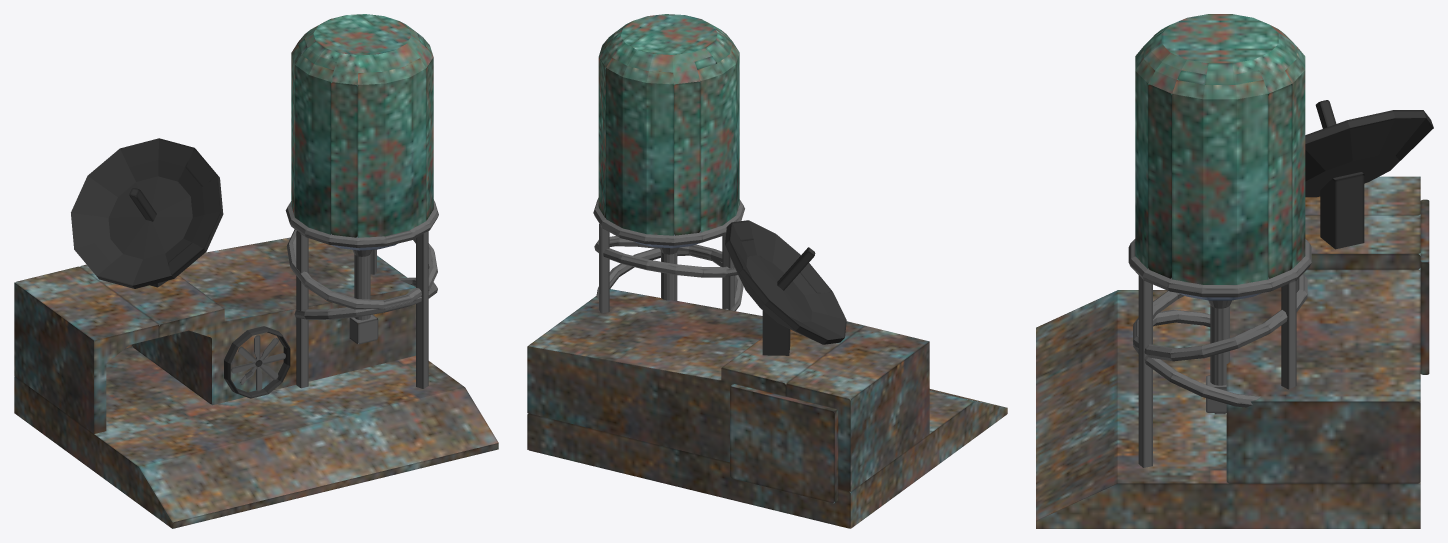
Rendered from BunkerDoor.fbx.
The picture shows the model from 3 angles, left to right: view 1: azimuth 30°, elevation 25°; view 2: azimuth 150°, elevation 25°; view 3: azimuth 270°, elevation 25°; orthographic projection. The views are drawn at different scales.
Parts seen in each view (by area): view 1: cuboid_5, cylinder, cuboid, cylinder_3, cuboid_1, torus_1, cuboid_2, torus, cuboid_4, torus_3, torus_2, cylinder_1 (+1 smaller); view 2: cuboid, cylinder, cuboid_5, cuboid_1, cuboid_15, cylinder_3, torus_1, torus, torus_2, cuboid_16, cuboid_3, cylinder_1 (+2 smaller); view 3: cuboid_5, cylinder, cuboid, cylinder_3, cuboid_16, torus_1, torus, cuboid_2, cuboid_1, torus_2, cuboid_15, cuboid_3 (+1 smaller).
Boxes of the visible parts, box(x1,y1,x2,y2) form: cuboid_5: box(14, 347, 498, 528); cylinder: box(291, 14, 433, 250); cuboid: box(80, 237, 415, 405); cylinder_3: box(71, 138, 223, 288); cuboid_1: box(14, 266, 159, 433); torus_1: box(286, 229, 437, 309); cuboid_2: box(416, 231, 428, 388); torus: box(285, 199, 438, 247); cuboid_4: box(296, 231, 308, 388); torus_3: box(224, 326, 290, 398); torus_2: box(294, 277, 437, 319); cylinder_1: box(352, 249, 371, 320); cuboid: box(527, 289, 864, 462); cylinder: box(598, 14, 739, 248); cuboid_5: box(527, 389, 1007, 528); cuboid_1: box(786, 325, 929, 491); cuboid_15: box(730, 384, 838, 503); cylinder_3: box(725, 220, 846, 344); torus_1: box(594, 236, 737, 277); torus: box(593, 198, 744, 245); torus_2: box(596, 248, 743, 311); cuboid_16: box(762, 310, 790, 355); cuboid_3: box(599, 223, 609, 313); cylinder_1: box(659, 247, 678, 300); cuboid_5: box(1036, 290, 1420, 528); cylinder: box(1135, 14, 1305, 300); cuboid: box(1226, 215, 1420, 483); cylinder_3: box(1305, 110, 1433, 197); cuboid_16: box(1320, 172, 1364, 249); torus_1: box(1133, 274, 1307, 361); torus: box(1128, 239, 1311, 297); cuboid_2: box(1138, 275, 1152, 467); cuboid_1: box(1305, 176, 1420, 215); torus_2: box(1133, 309, 1260, 407); cuboid_15: box(1420, 199, 1429, 374); cuboid_3: box(1281, 280, 1296, 389).
Size of the model in its own units: 1941 by 2096 by 1664.
1 material, 1 textured.
